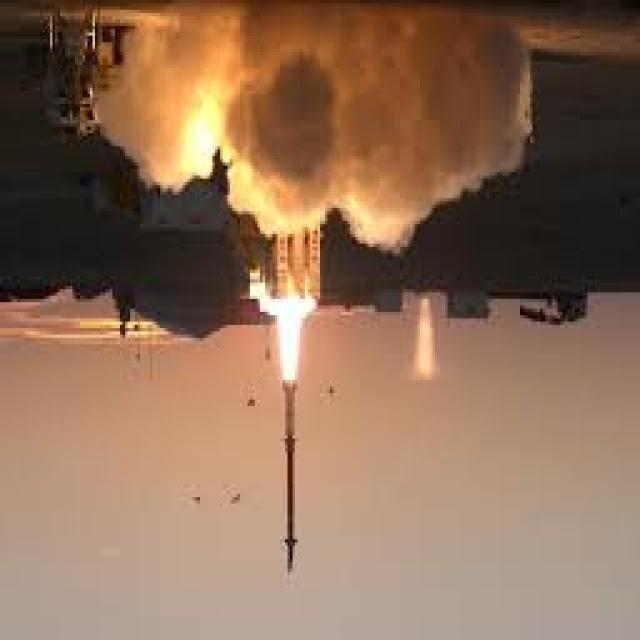Missile: (283, 373, 296, 578)
